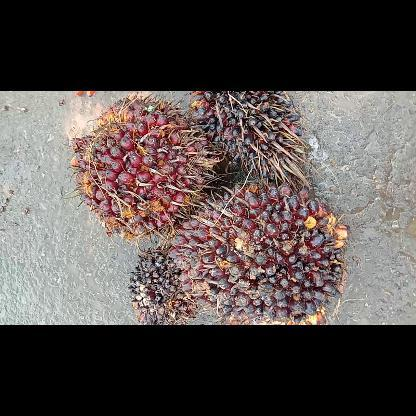Kurang masak: (167, 182, 349, 324)
TBS abnormal: (188, 90, 306, 182), (127, 244, 197, 324)
TBS masak: (70, 92, 200, 235)
